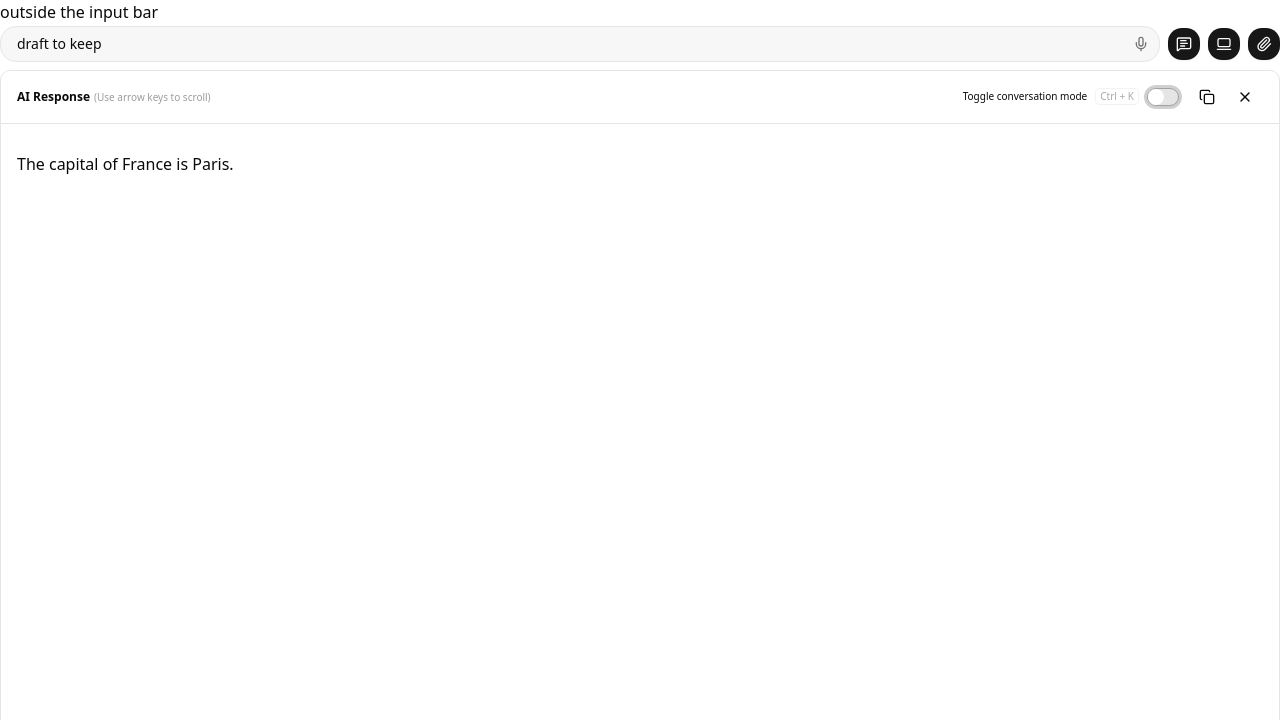
Test: Screenshot and Attach with a visible answer › Screenshot with Message History open closes History but keeps the answer
The width and height of the screenshot is (1280, 720).
Click the button named "Message History" at (1184, 44), box x1=1168 y1=28 x2=1200 y2=60
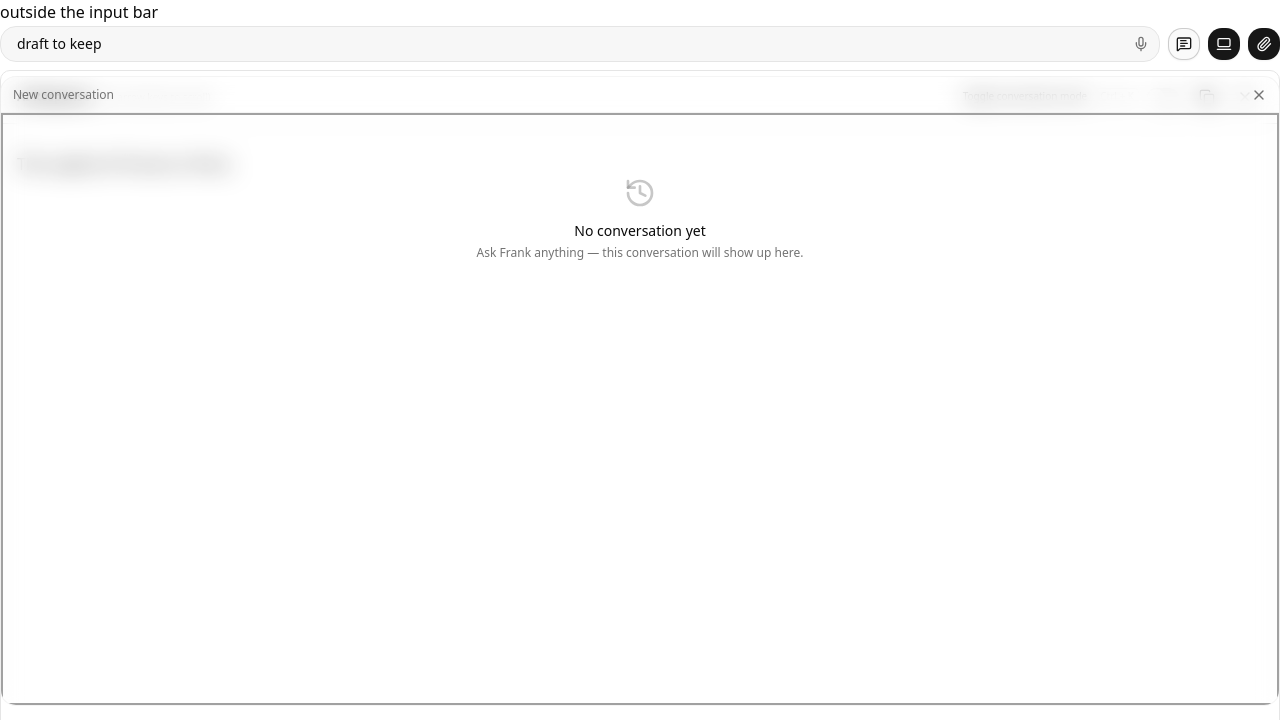
Expected: the dialog named "Current conversation" is shown
Click the button named "Screenshot mode" at (1224, 44), box x1=1208 y1=28 x2=1240 y2=60
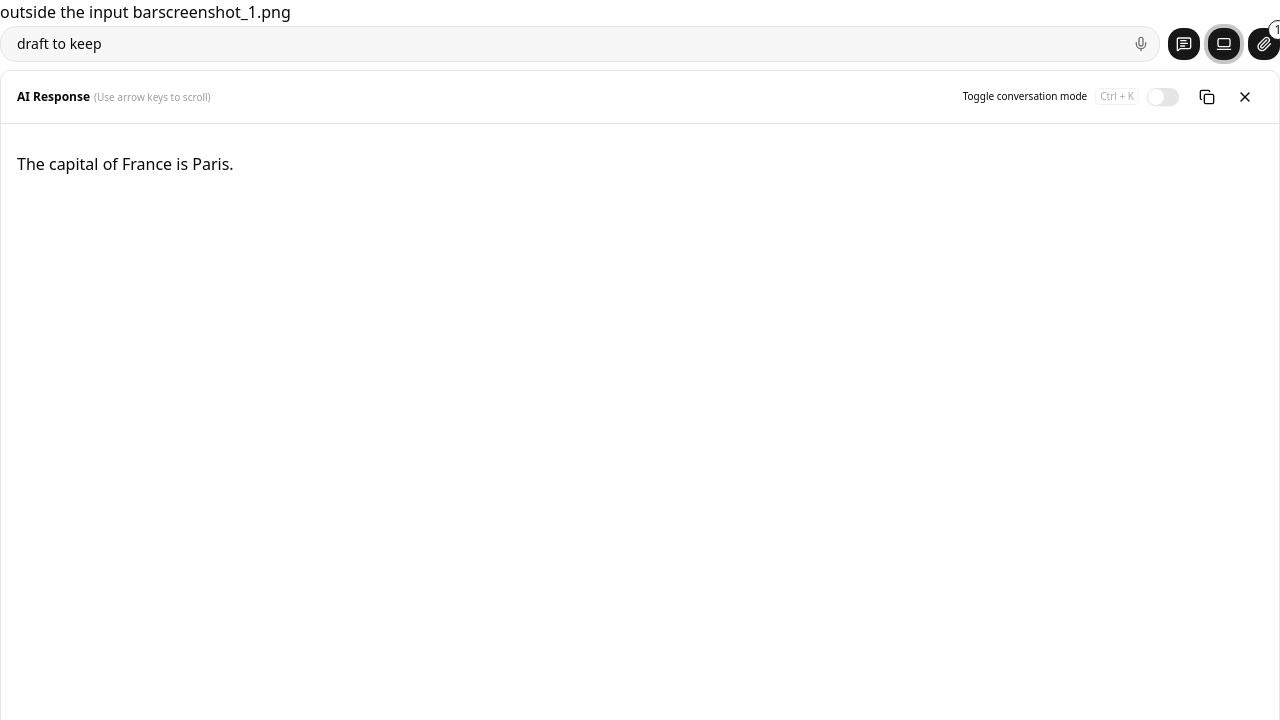
Expected: the text "The capital of France is Paris." is shown, x1=17 y1=153 x2=234 y2=175
Expected: the text with test id "attachments" reads "screenshot_1.png", x1=158 y1=1 x2=291 y2=23
